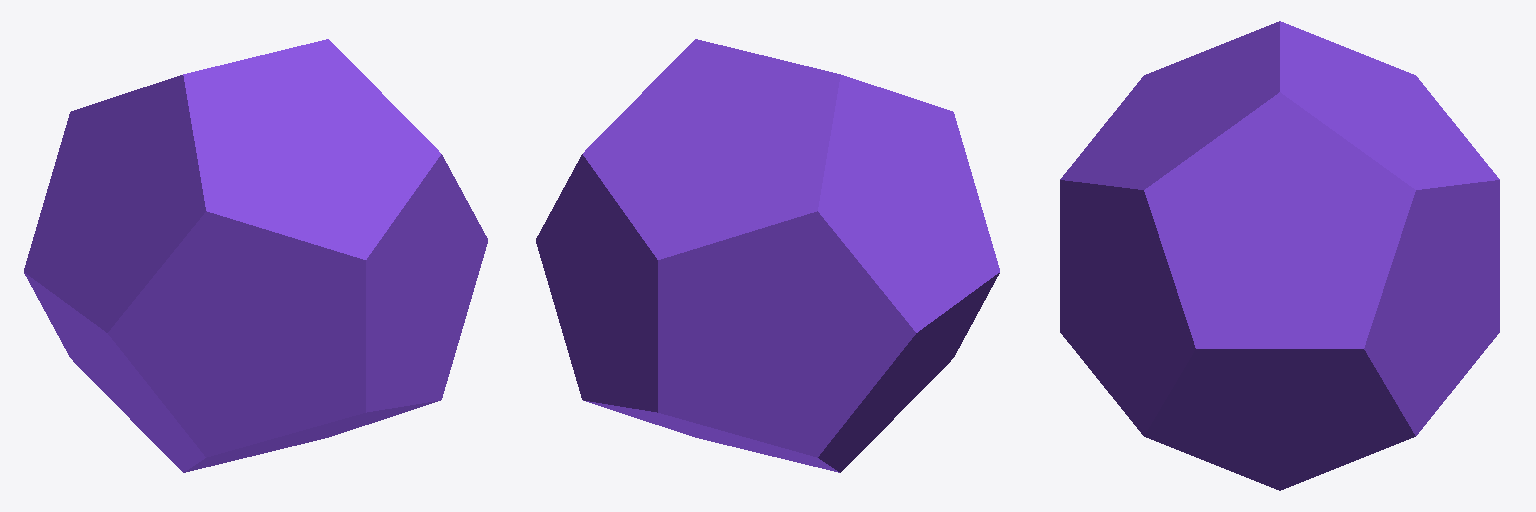
Rendered from dodecahedron.obj.
3 views of the same model, side by side, from view 1: azimuth 30°, elevation 25°; view 2: azimuth 150°, elevation 25°; view 3: azimuth 270°, elevation 25° (orthographic).
Parts seen in each view (by area): view 1: Hedra001; view 2: Hedra001; view 3: Hedra001.
Part boxes in pixels (x1,y1,x2,y2): Hedra001: (24, 39, 487, 472); Hedra001: (536, 39, 999, 472); Hedra001: (1060, 21, 1499, 490).
Bounding box in the file's own units: 299 × 299 × 299.